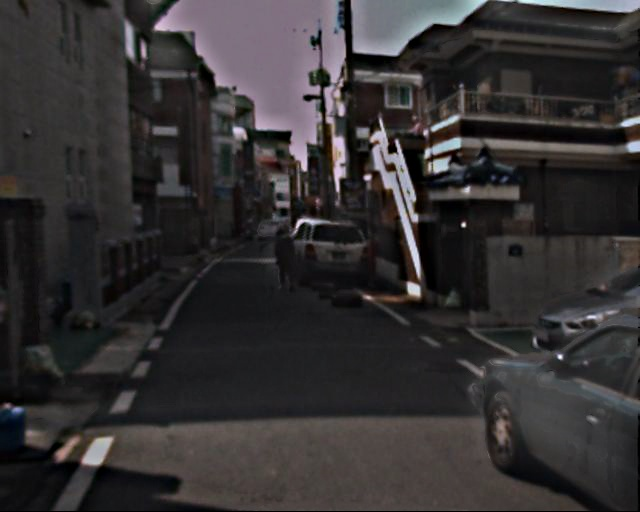person: (270, 226, 299, 296)
